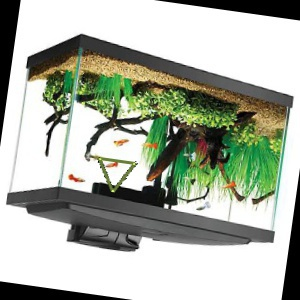triangle: (94, 155, 139, 195)
